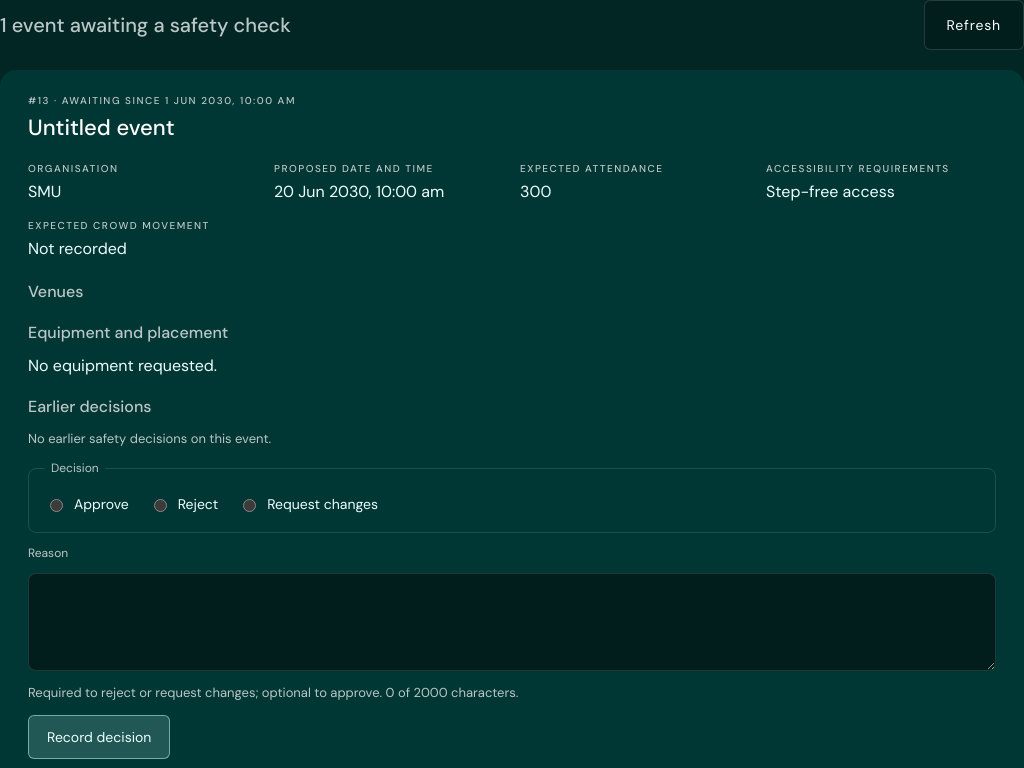
Test case: the decision form on each review (SG2-92 AC1–AC5) › [BOUNDARY] [SG2-92:AC5] a decision on an event with no name says which one it was
Click the radio button labelled "Approve": (56, 506) [50,499,63,512]
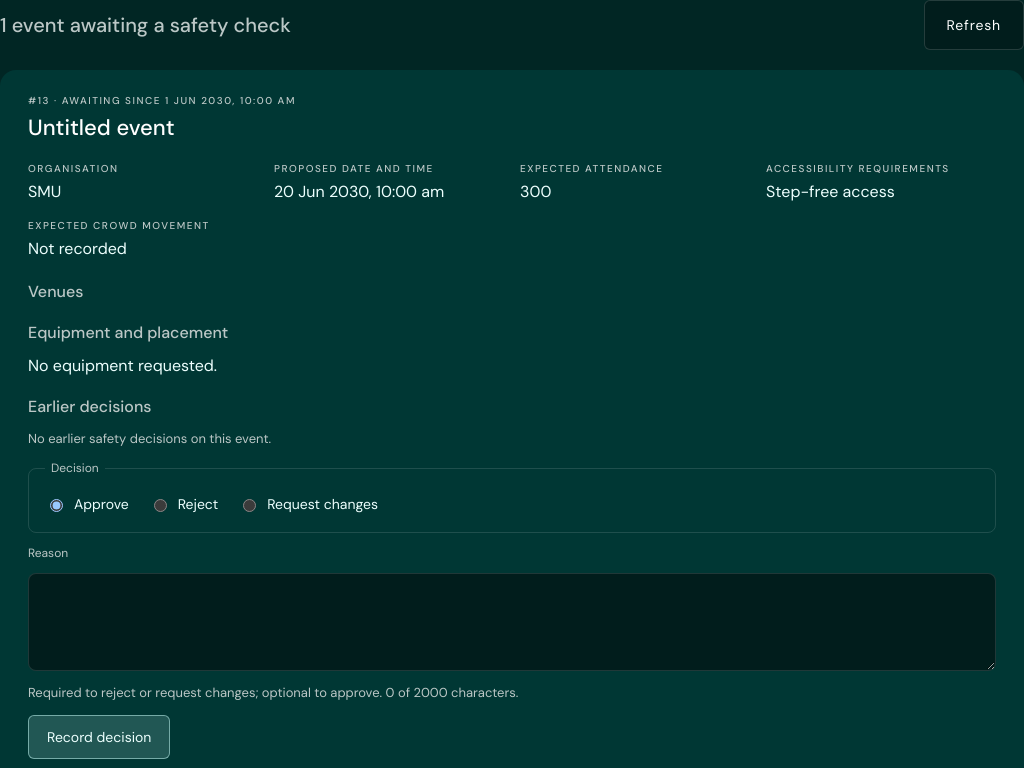
Click the button "Record decision": (99, 737) [28,715,170,759]
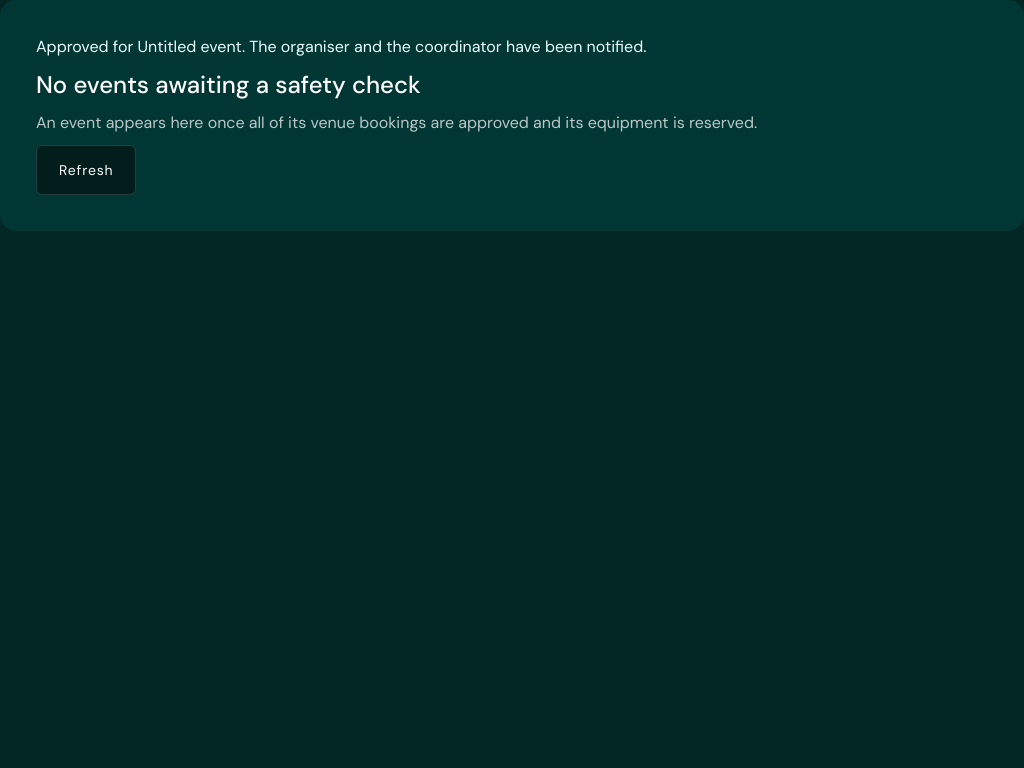
Now the heading "No events awaiting a safety check" is shown, box [36,69,420,100]
Now the text "Approved for Untitled event. The organiser and the coordinator have been notified." is shown, box [36,36,646,57]
